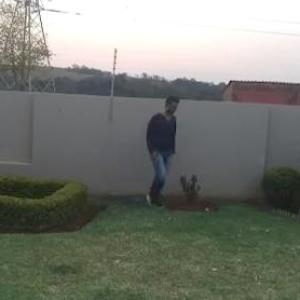follow: (142, 94, 177, 209)
